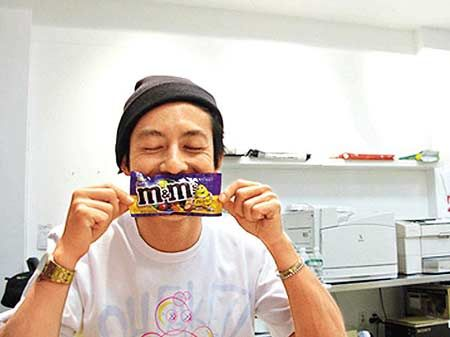face: (128, 100, 221, 221)
